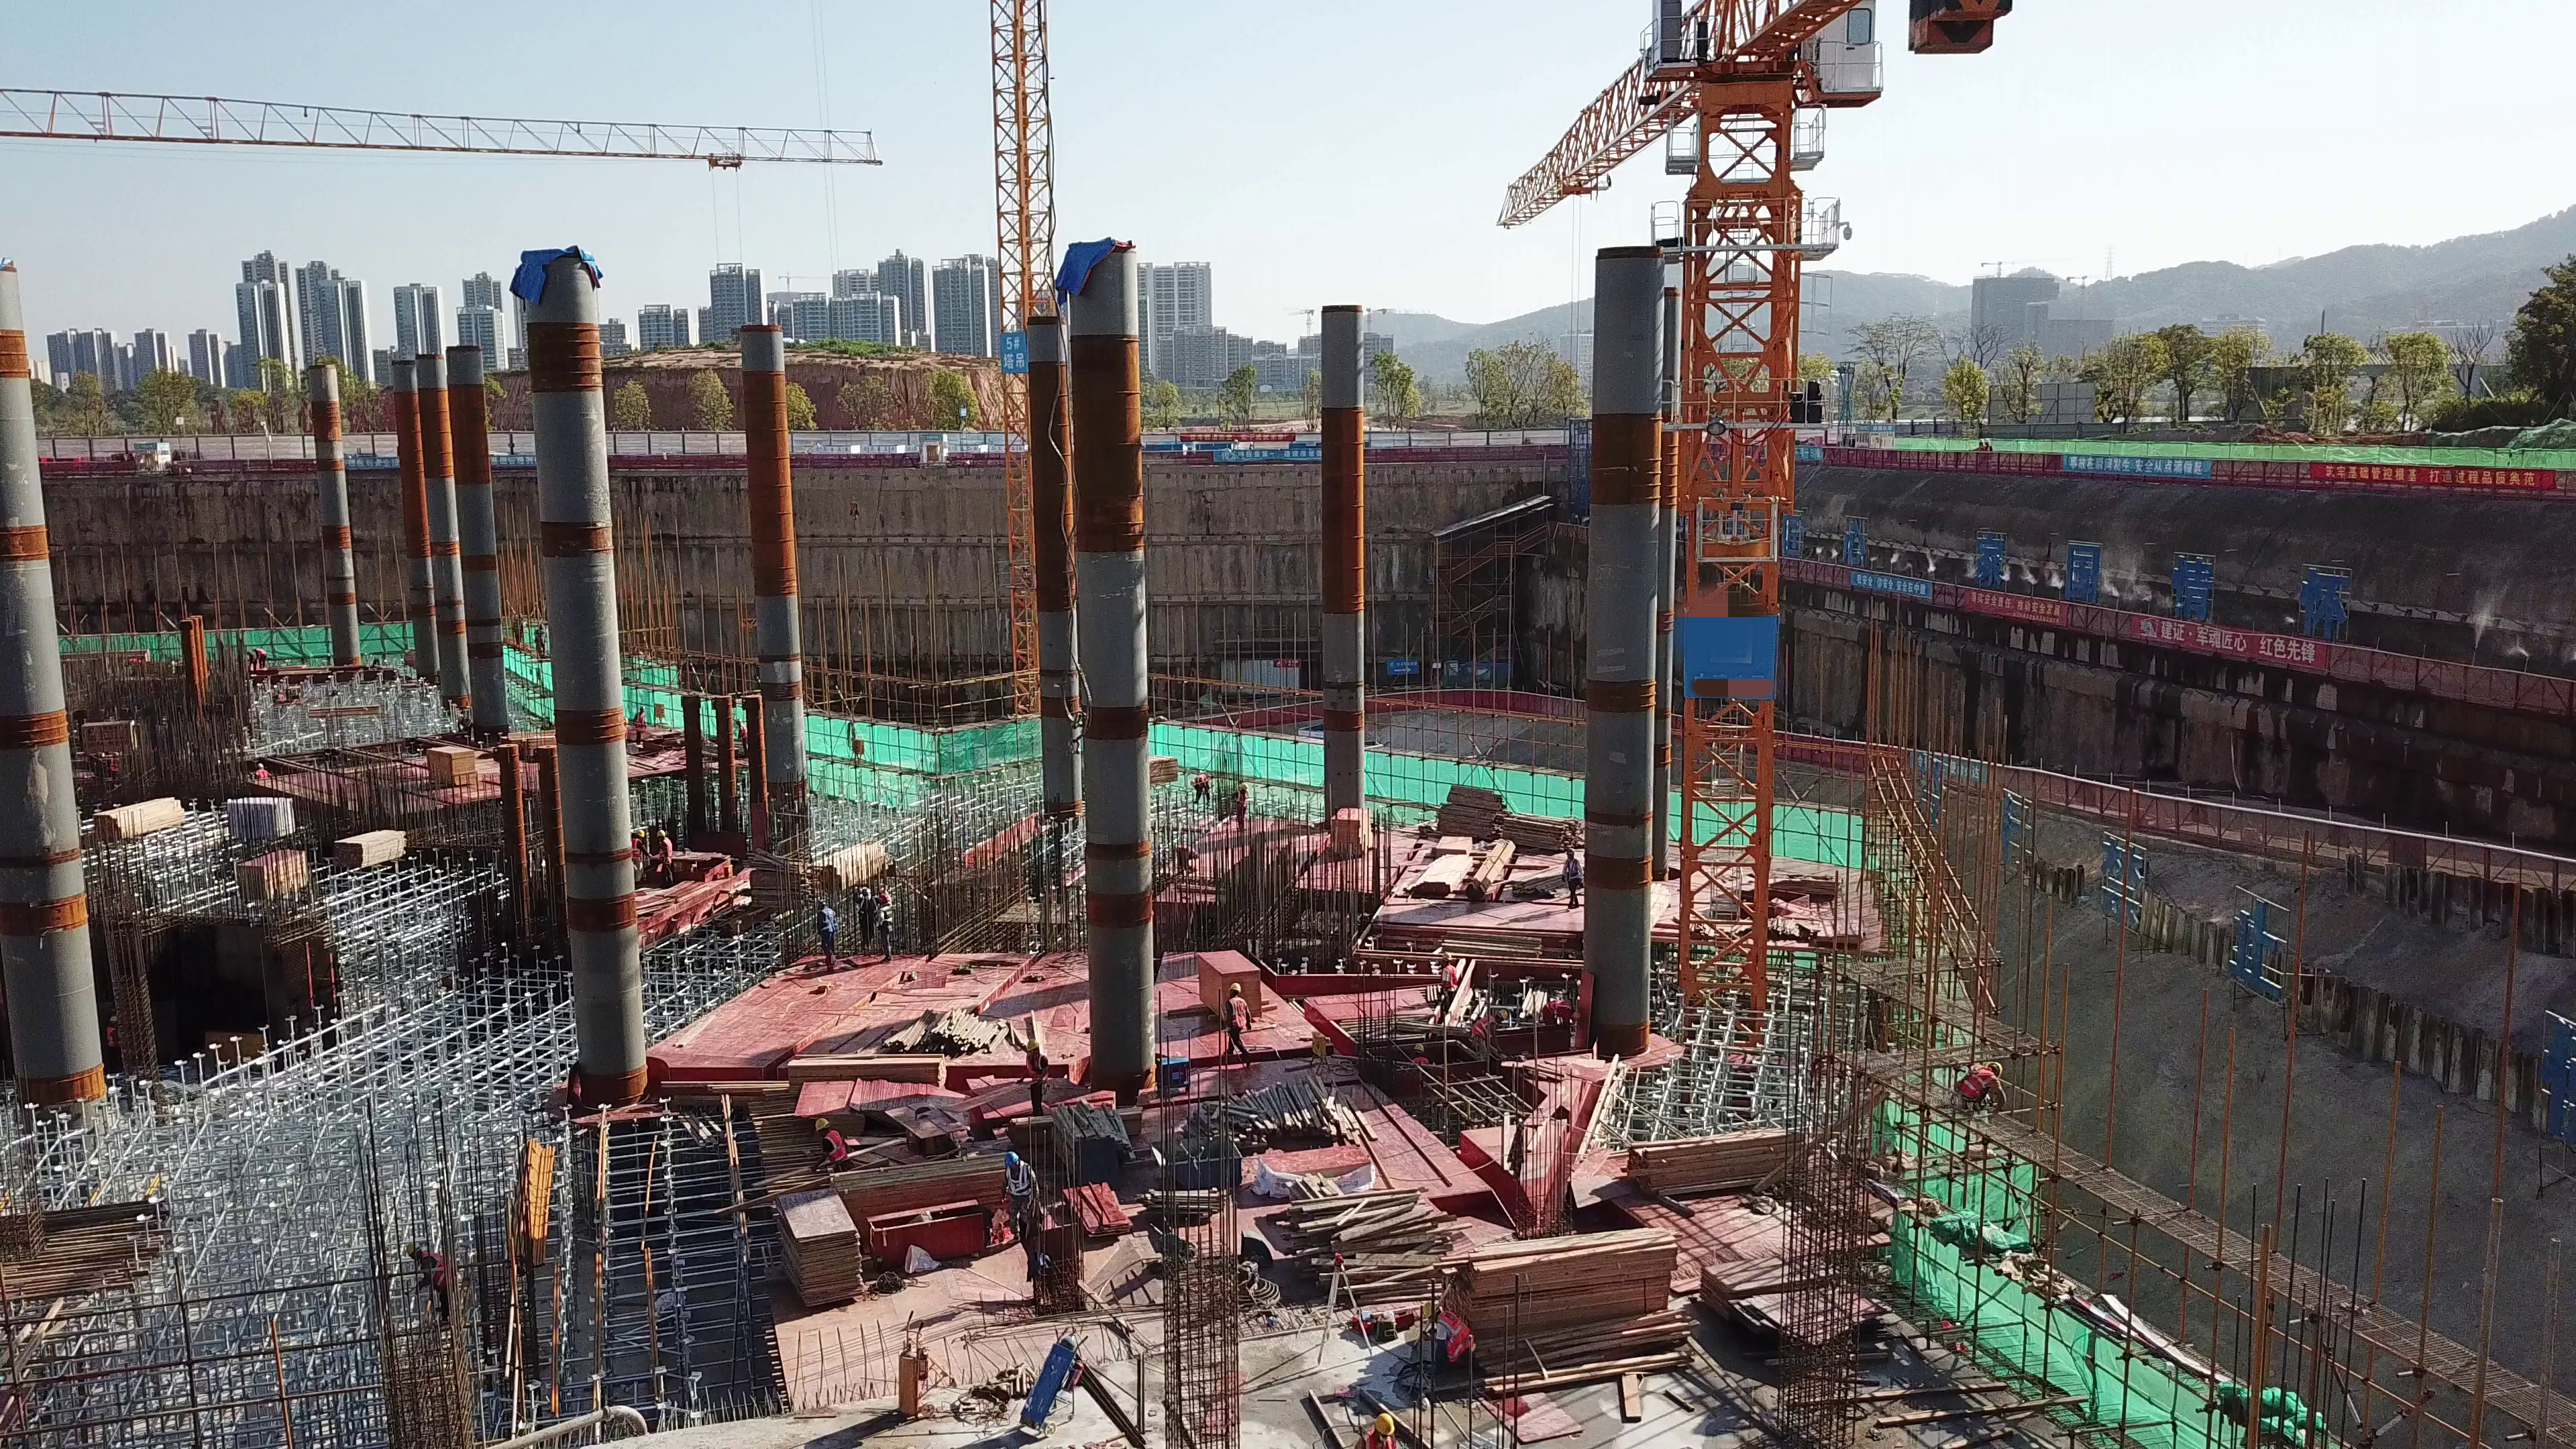board: (752, 1193, 881, 1342), (799, 1079, 976, 1123), (237, 839, 303, 906), (1326, 808, 1375, 855), (428, 747, 478, 792)
cutter: (892, 1097, 965, 1165)
helmet: (1377, 1407, 1397, 1434), (1418, 1299, 1441, 1318), (1986, 1058, 2007, 1077), (1001, 1152, 1022, 1167), (814, 1118, 835, 1128), (1566, 842, 1576, 859), (1414, 1042, 1426, 1055), (813, 899, 827, 909), (1497, 1008, 1508, 1022), (1440, 952, 1453, 962), (1571, 1008, 1580, 1022), (1228, 982, 1240, 989), (655, 829, 667, 837), (638, 826, 646, 838), (1189, 778, 1196, 790), (1240, 783, 1248, 792)
hopper: (1154, 1137, 1257, 1199)
person: (986, 1147, 1053, 1274), (1417, 1305, 1503, 1377), (1947, 1058, 2025, 1118), (1212, 973, 1267, 1055), (803, 1112, 866, 1176), (1546, 833, 1595, 913), (804, 893, 843, 971), (1469, 1002, 1509, 1071), (1345, 1408, 1406, 1449), (1431, 950, 1457, 1030), (847, 883, 876, 957), (1540, 988, 1585, 1033), (873, 891, 900, 967), (97, 742, 131, 788), (652, 826, 675, 887), (524, 618, 552, 654), (1232, 782, 1251, 834), (1402, 1041, 1435, 1069), (735, 711, 757, 756), (630, 827, 645, 886), (631, 706, 649, 752), (1191, 771, 1212, 804), (247, 643, 272, 665), (245, 761, 272, 780)
rebar: (1, 1191, 189, 1319)
slogan: (2170, 549, 2369, 634), (1971, 534, 2114, 608), (2125, 619, 2322, 667), (2318, 461, 2544, 488), (1966, 589, 2092, 631), (2063, 452, 2225, 476), (1846, 572, 1947, 604), (1213, 446, 1328, 464), (1177, 427, 1301, 443), (999, 338, 1026, 372), (347, 455, 402, 468), (492, 453, 545, 466)
vest: (1437, 1311, 1480, 1356), (1953, 1067, 1990, 1103), (1006, 1167, 1032, 1201), (1225, 999, 1249, 1033), (824, 1130, 849, 1161), (1546, 998, 1574, 1023), (1472, 1018, 1497, 1040), (1566, 860, 1582, 888), (1407, 1055, 1432, 1069), (1444, 967, 1457, 992), (631, 839, 645, 864), (660, 840, 673, 869), (818, 912, 837, 931), (878, 908, 896, 926), (1237, 792, 1250, 812), (637, 714, 645, 737), (737, 726, 747, 745), (107, 760, 122, 775), (1197, 773, 1212, 785), (254, 770, 270, 780), (258, 649, 268, 663)
wood: (1478, 1244, 1707, 1361), (1286, 1179, 1457, 1292), (1629, 1121, 1811, 1196), (1214, 1089, 1385, 1161), (1428, 782, 1513, 910), (839, 1161, 997, 1205), (770, 833, 892, 884), (1053, 1104, 1140, 1170), (904, 1004, 1012, 1053), (95, 794, 172, 847), (340, 823, 413, 866), (1495, 808, 1576, 841)
